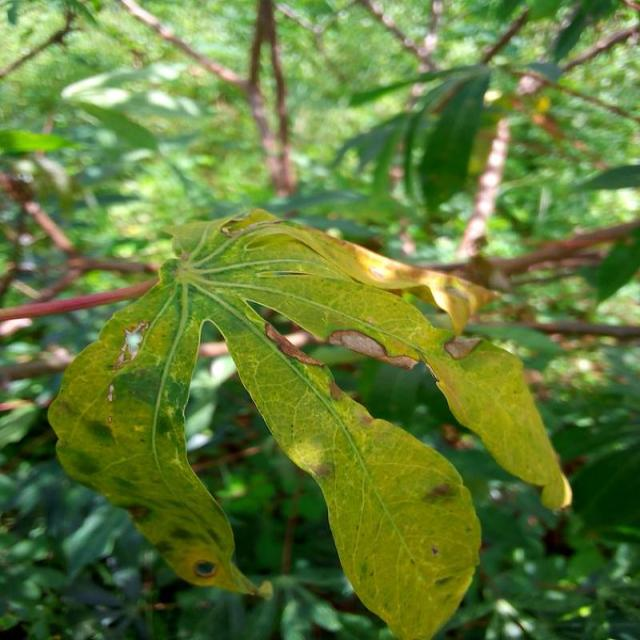cassava leaf: (48, 206, 574, 637)
